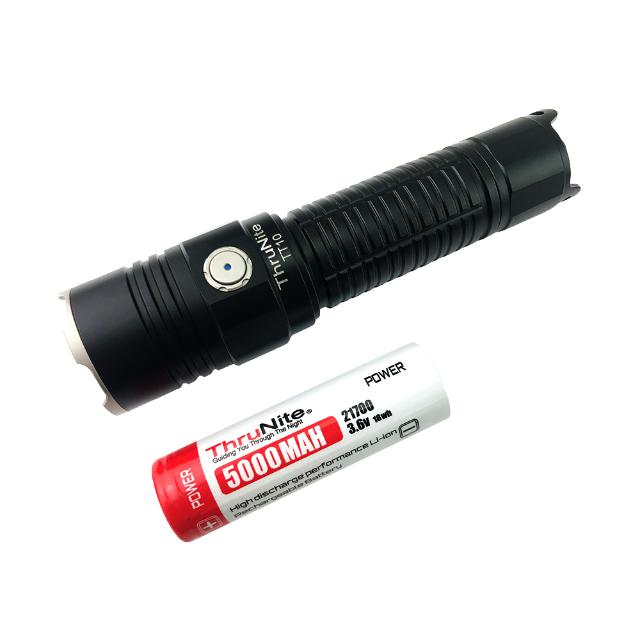Flashlight: (52, 100, 590, 423)
